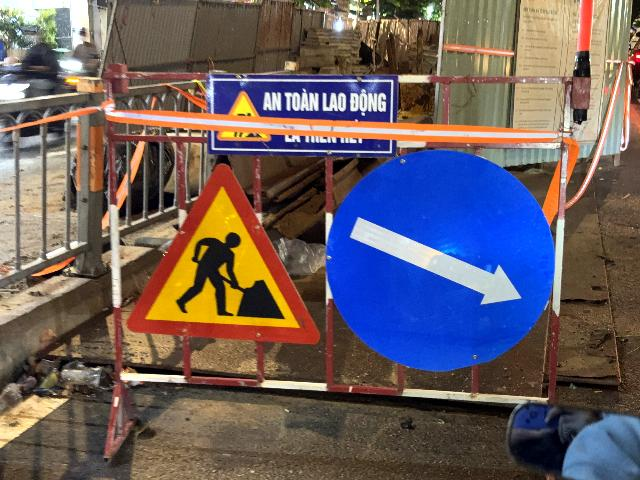cong-truong-dang-thi-cong: (128, 163, 321, 345)
huong-phai-di-vong-chuong-ngai-vat: (325, 149, 555, 373)
